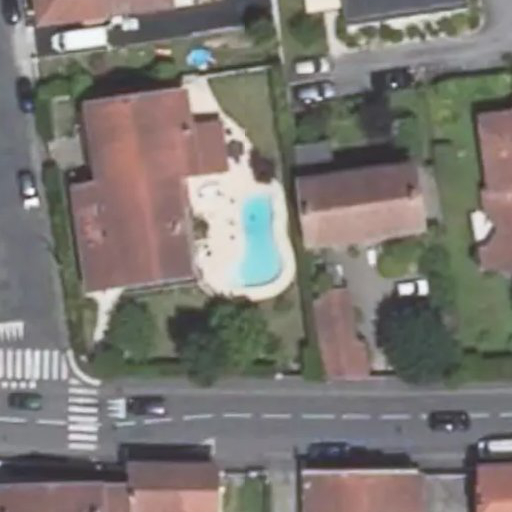pool: (225, 209, 283, 275)
